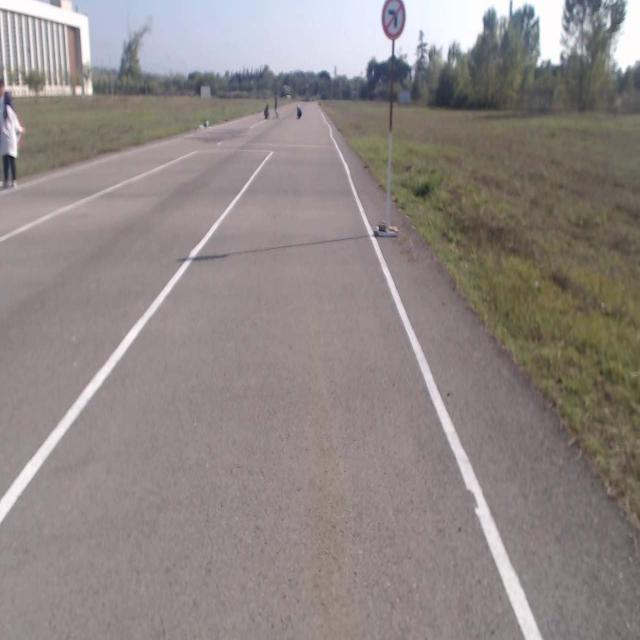soladonulmez: (382, 1, 405, 39)
